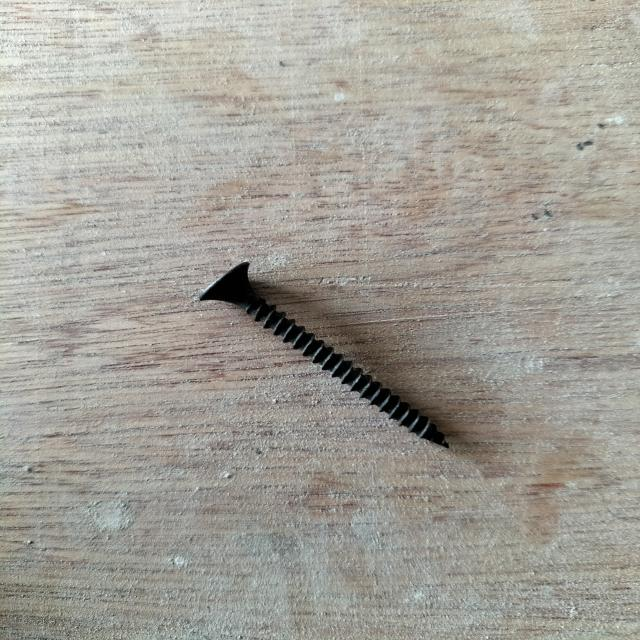screw: (199, 262, 453, 448)
